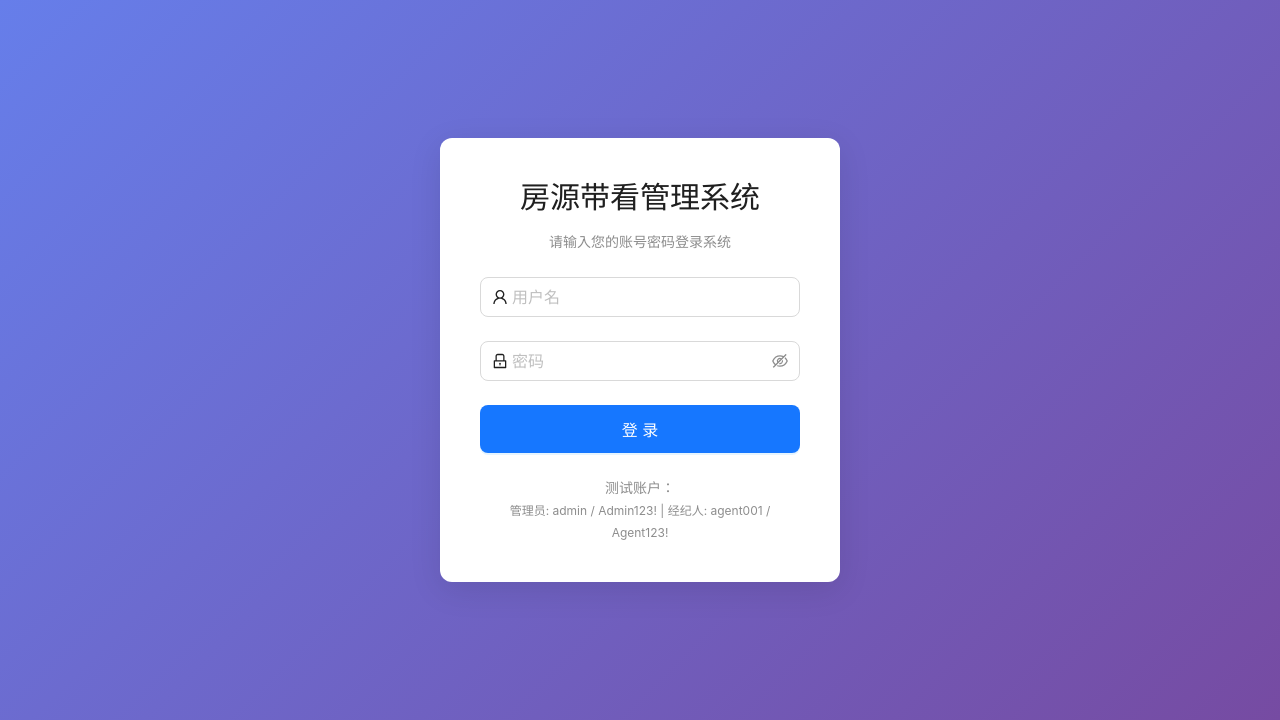
Test case: 认证功能测试 › 应该显示必填字段验证
Click the submit button at {"x": 640, "y": 429}, box [480,405,800,453]
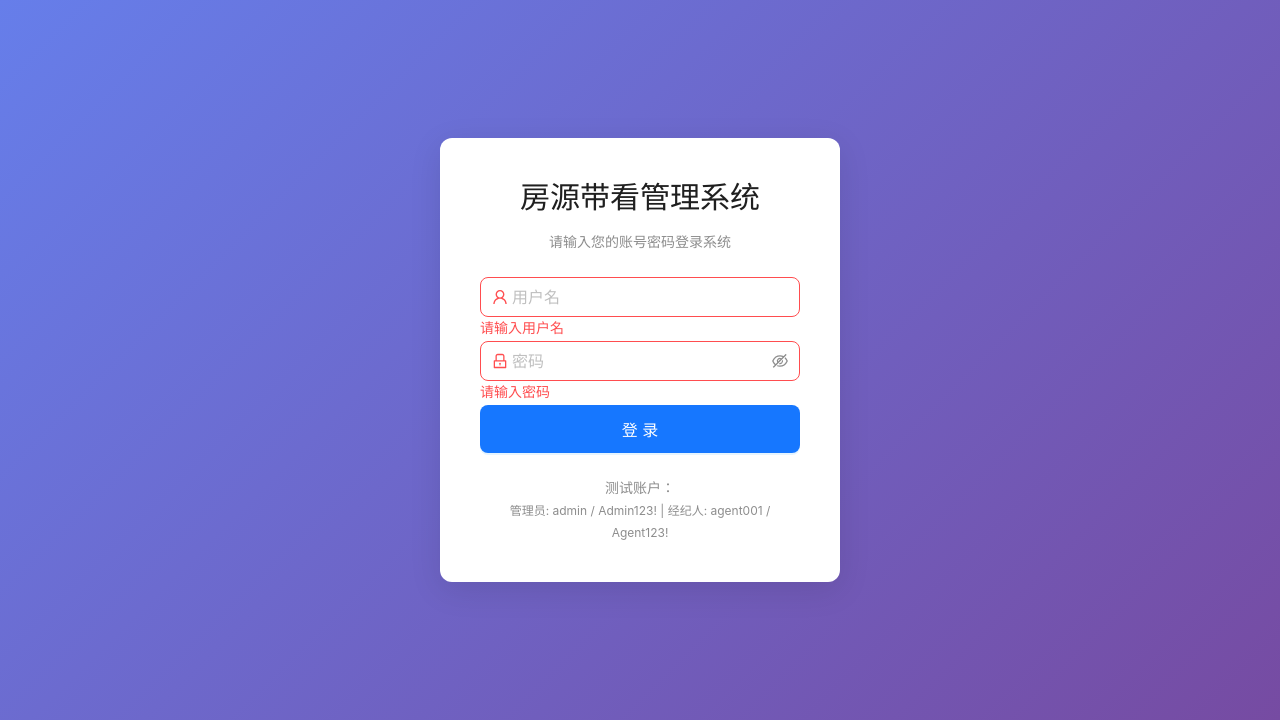
Result: the text "请输入用户名" is shown at [480,319,564,336]
Result: the text "请输入密码" is shown at [480,383,550,400]
